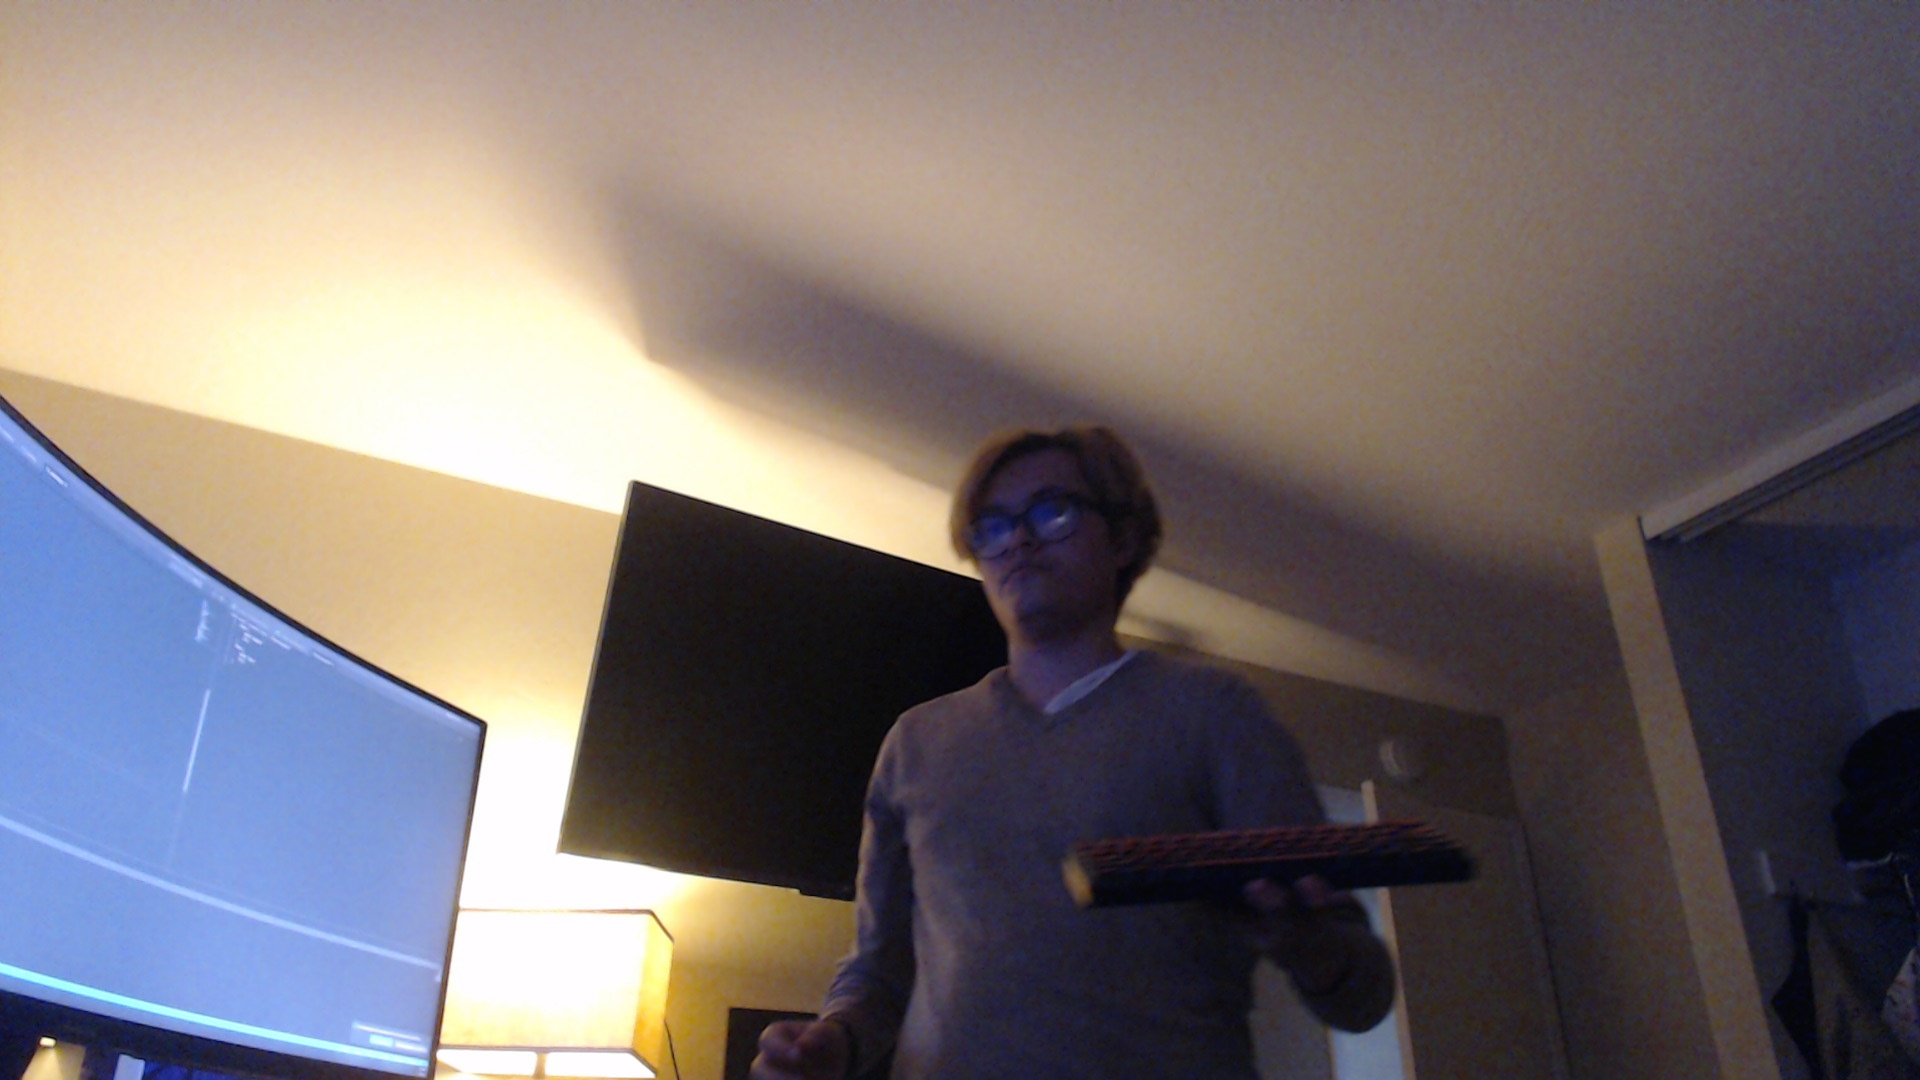keyboard: (1058, 820, 1480, 905)
